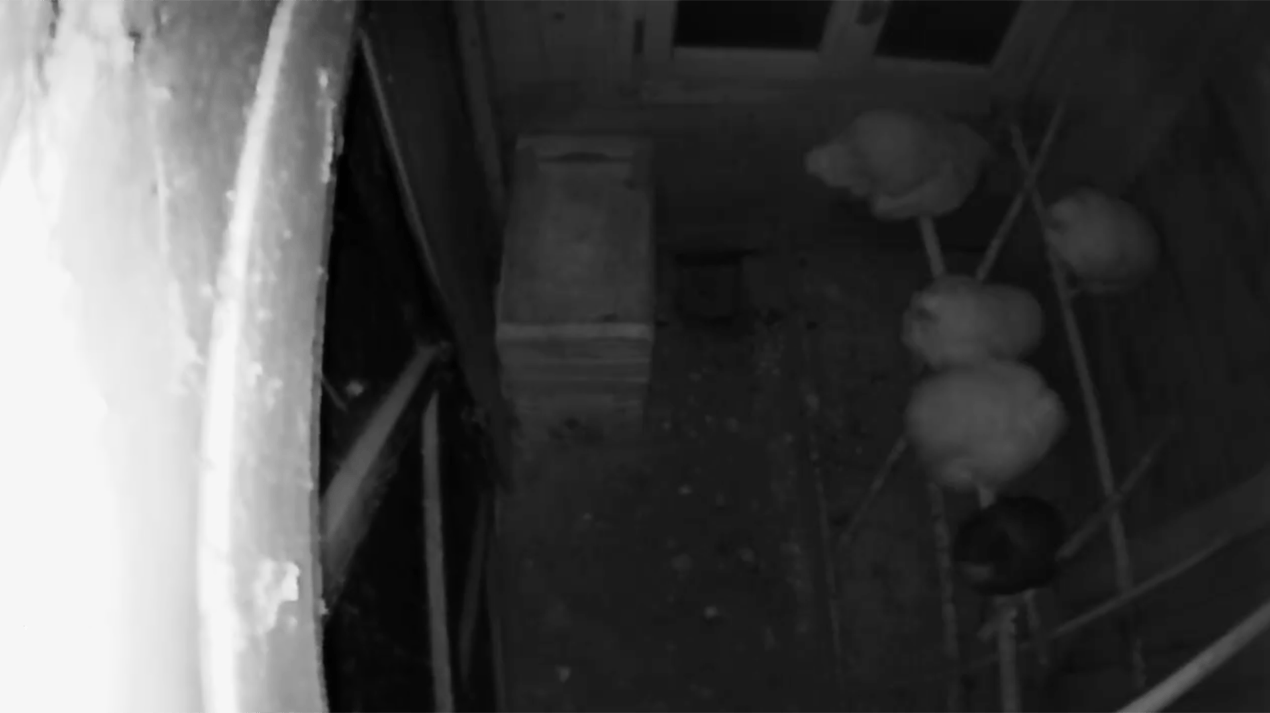chicken: (794, 101, 1001, 229), (899, 359, 1076, 496), (878, 263, 1061, 379), (1031, 174, 1173, 303), (944, 494, 1079, 604)
